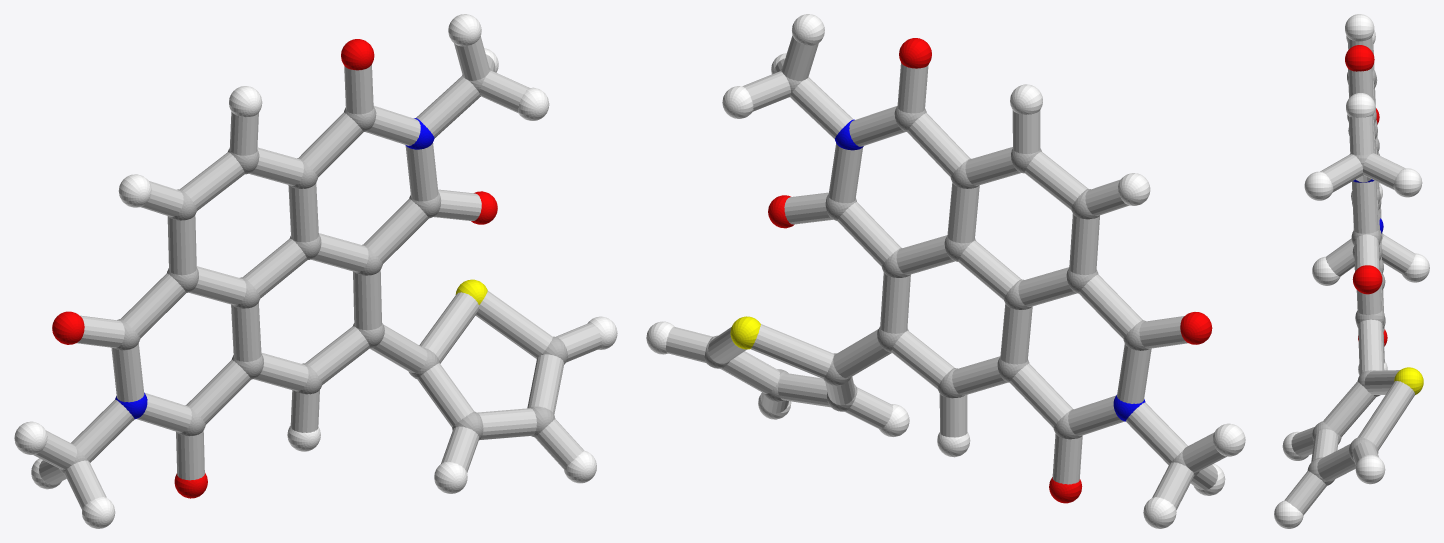
File: Dimethyl_Naphthalene_Dicarboximide_Phi_25_Theta_140_Thiophene.glb
3 views of the same model, side by side, from view 1: azimuth 30°, elevation 25°; view 2: azimuth 150°, elevation 25°; view 3: azimuth 270°, elevation 25° (orthographic). The views are drawn at different scales.
Visible parts, largest first — view 1: grp14119, grp7241, grp1, grp12309, grp11585; view 2: grp14119, grp7241, grp1, grp12309, grp11585, grp13757; view 3: grp14119, grp7241, grp1, grp12309, grp13757.
Boxes of the visible parts, x1,y1,x2,y2 form: grp14119: [33, 36, 601, 509]; grp7241: [14, 14, 617, 528]; grp1: [59, 68, 567, 473]; grp12309: [52, 39, 497, 498]; grp11585: [115, 118, 434, 419]; grp14119: [666, 35, 1226, 509]; grp7241: [646, 14, 1245, 528]; grp1: [704, 69, 1199, 476]; grp12309: [768, 38, 1212, 503]; grp11585: [835, 119, 1145, 421]; grp13757: [730, 316, 760, 349]; grp14119: [1284, 36, 1415, 515]; grp7241: [1274, 14, 1429, 528]; grp1: [1307, 69, 1385, 485]; grp12309: [1345, 45, 1387, 346]; grp13757: [1394, 367, 1423, 394].
Bounding box in the file's own units: 12.4 × 9.02 × 3.16.
